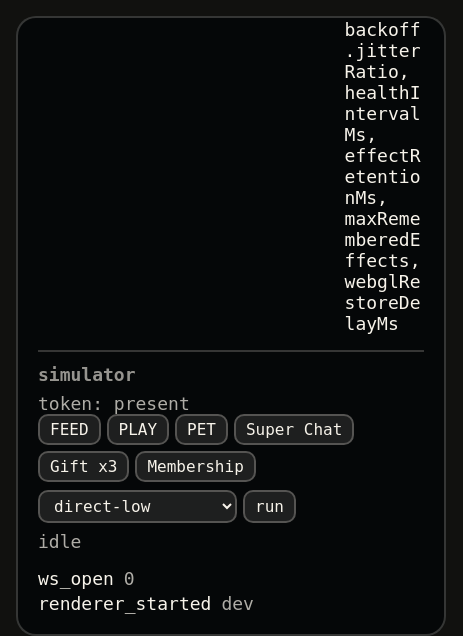
Test: dev panel injection controls › sends a pressed button through POST /ingest/simulator and nowhere else
(page scrolled)
Click the button with test id "dev-inject-feed" at (69,430), box left=38, top=414, right=100, bottom=445
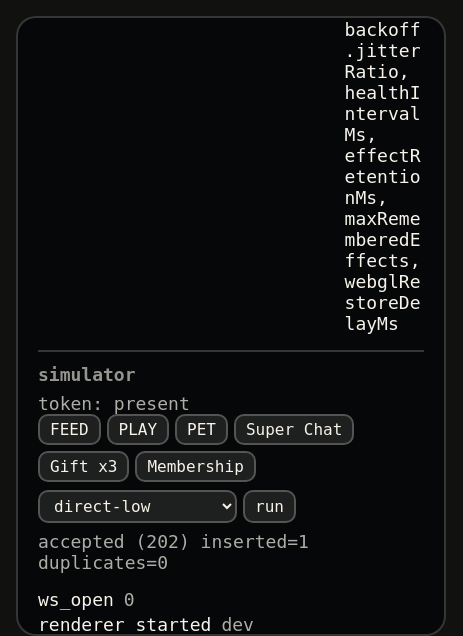
Now the text with test id "dev-sim-result" reads "accepted (202) inserted=1 duplicates=0", box left=38, top=531, right=309, bottom=573
